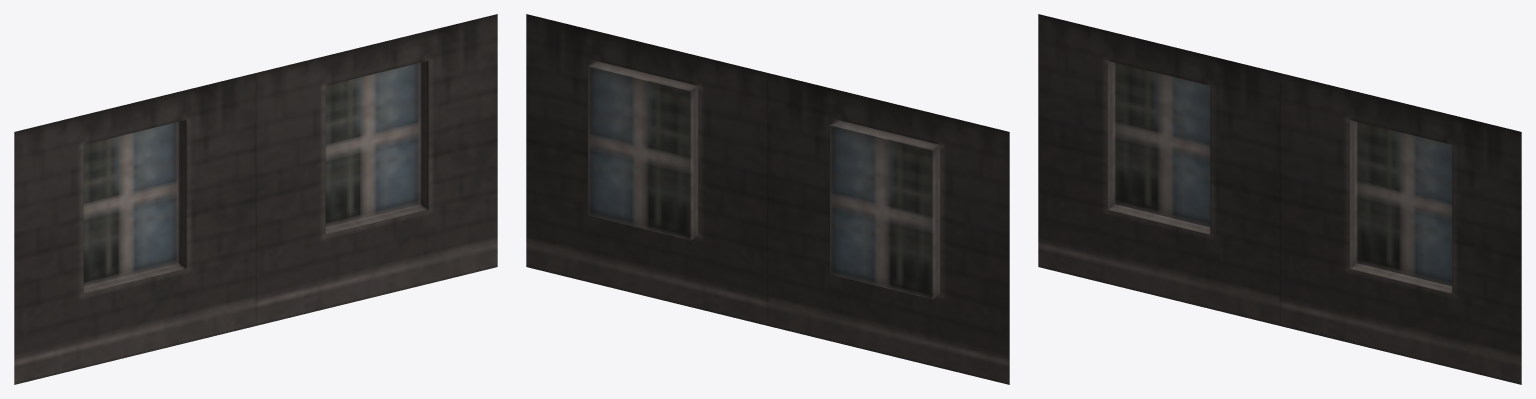
The model's file is B7_WindowB2x.FBX.
3 renders of one model, left to right at view 1: azimuth 30°, elevation 25°; view 2: azimuth 150°, elevation 25°; view 3: azimuth 330°, elevation 25°, orthographic.
Parts seen in each view (by area): view 1: B7_WindowB2x; view 2: B7_WindowB2x; view 3: B7_WindowB2x.
Part boxes in pixels (left/top/right/bottom): B7_WindowB2x: left=14, top=14, right=497, bottom=384; B7_WindowB2x: left=526, top=14, right=1009, bottom=384; B7_WindowB2x: left=1038, top=14, right=1521, bottom=384.
Size of the model in its own units: 8 by 4 by 0.2192.
